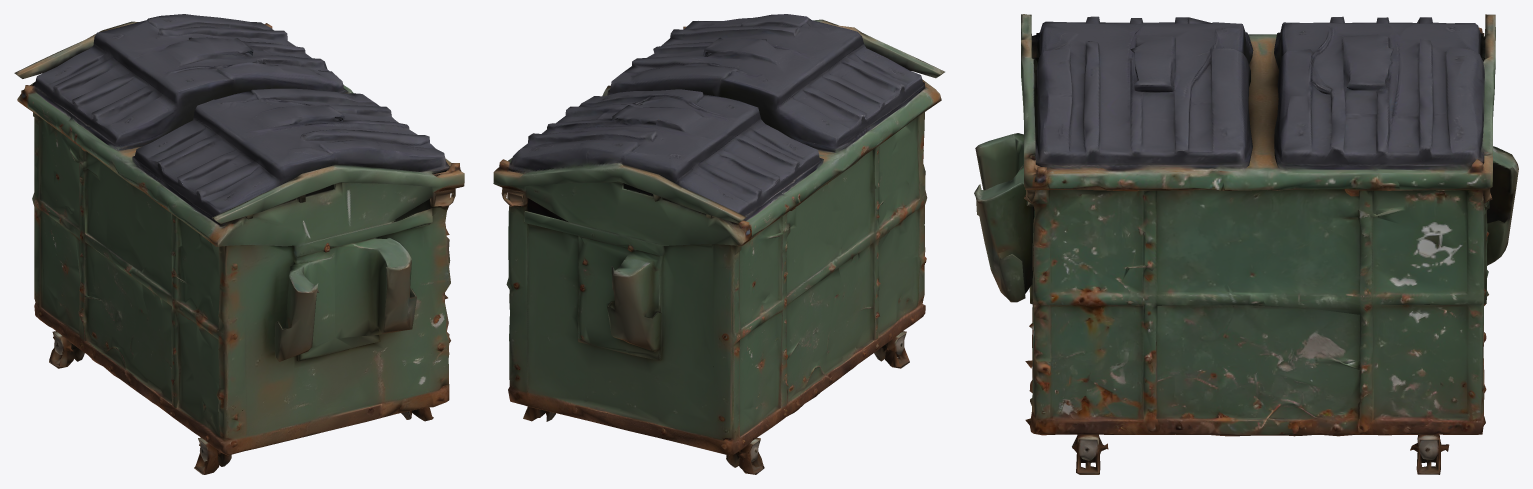
File: dumpster.glb
The picture shows the model from 3 angles, left to right: view 1: azimuth 30°, elevation 25°; view 2: azimuth 150°, elevation 25°; view 3: azimuth 270°, elevation 25°; orthographic projection. The views are drawn at different scales.
Visible parts, largest first — view 1: tripo_node_09450469-8886-4346-9ece-2f4f6c4220cc; view 2: tripo_node_09450469-8886-4346-9ece-2f4f6c4220cc; view 3: tripo_node_09450469-8886-4346-9ece-2f4f6c4220cc.
Part boxes in pixels (x1,y1,x2,y2): tripo_node_09450469-8886-4346-9ece-2f4f6c4220cc: [14, 14, 464, 474]; tripo_node_09450469-8886-4346-9ece-2f4f6c4220cc: [493, 14, 944, 474]; tripo_node_09450469-8886-4346-9ece-2f4f6c4220cc: [974, 14, 1518, 474].
Size of the model in its own units: 0.6309 by 0.7408 by 1.
1 material, 1 textured.
